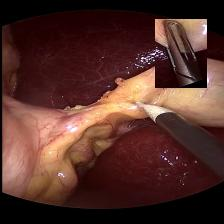Grasper: (154, 19, 206, 88)
Hook: (126, 100, 178, 125)
